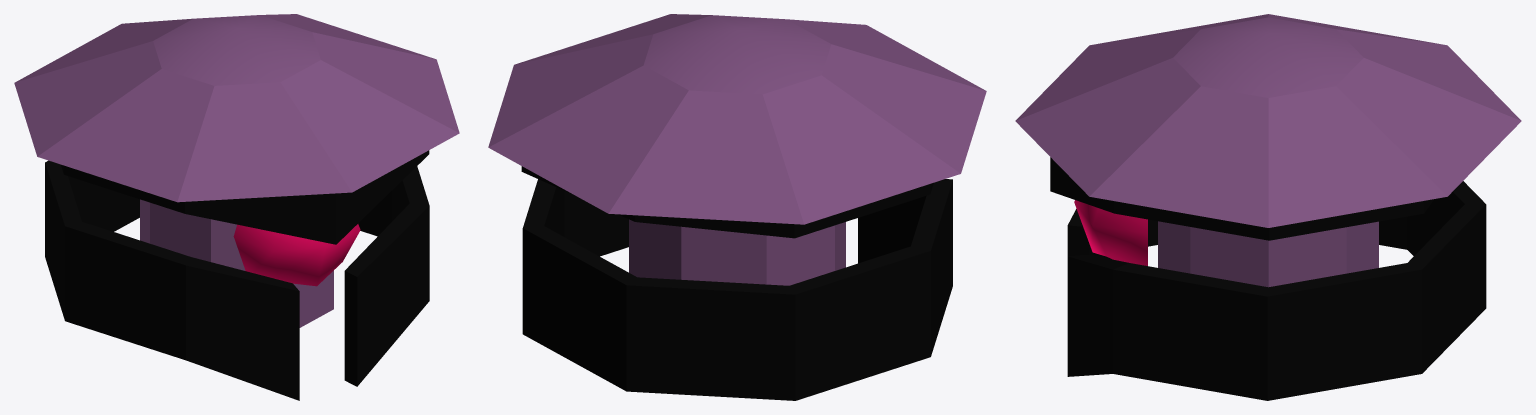
Rendered from enemy_1.fbx.
The picture shows the model from 3 angles, left to right: view 1: azimuth 30°, elevation 25°; view 2: azimuth 150°, elevation 25°; view 3: azimuth 270°, elevation 25°; orthographic projection. The views are drawn at different scales.
Visible parts, largest first — view 1: pCylinder12; view 2: pCylinder12; view 3: pCylinder12.
Boxes of the visible parts, box(x1,y1,x2,y2) form: pCylinder12: box(14, 14, 459, 400); pCylinder12: box(488, 14, 986, 400); pCylinder12: box(1015, 14, 1521, 400).
Bounding box in the file's own units: 2 × 1.56 × 2.
